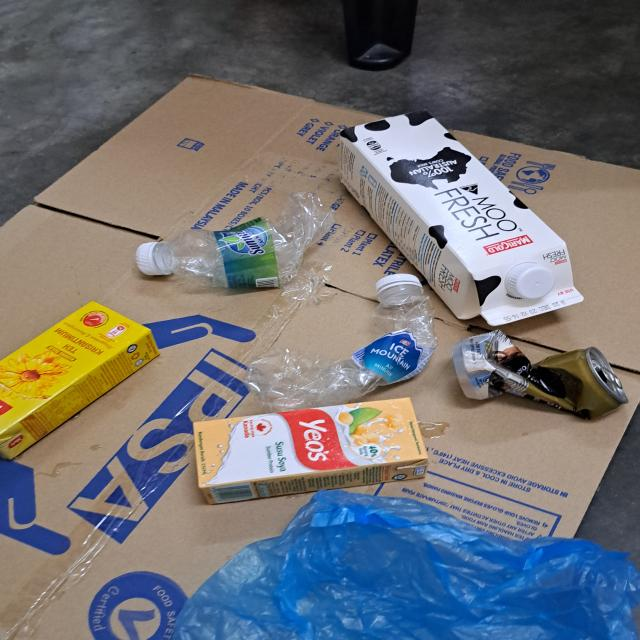can: (449, 323, 628, 422)
cardboard: (0, 72, 640, 640)
drink carton: (340, 111, 580, 326), (0, 300, 161, 460), (197, 396, 426, 504)
plastic bag: (172, 486, 640, 640)
plastic bottle: (246, 272, 437, 403), (136, 197, 336, 289)
plastic bottle cap: (504, 260, 557, 300), (375, 272, 429, 299), (132, 241, 169, 278)
